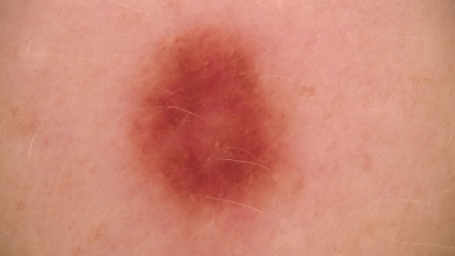nevus: (133, 31, 282, 208)
